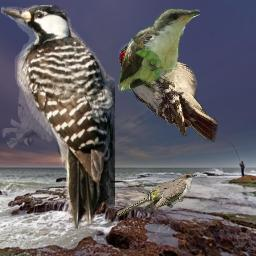Cuckoo: (117, 8, 200, 92), (116, 173, 197, 216)
Woodpecker: (1, 5, 115, 232), (118, 39, 218, 142)
